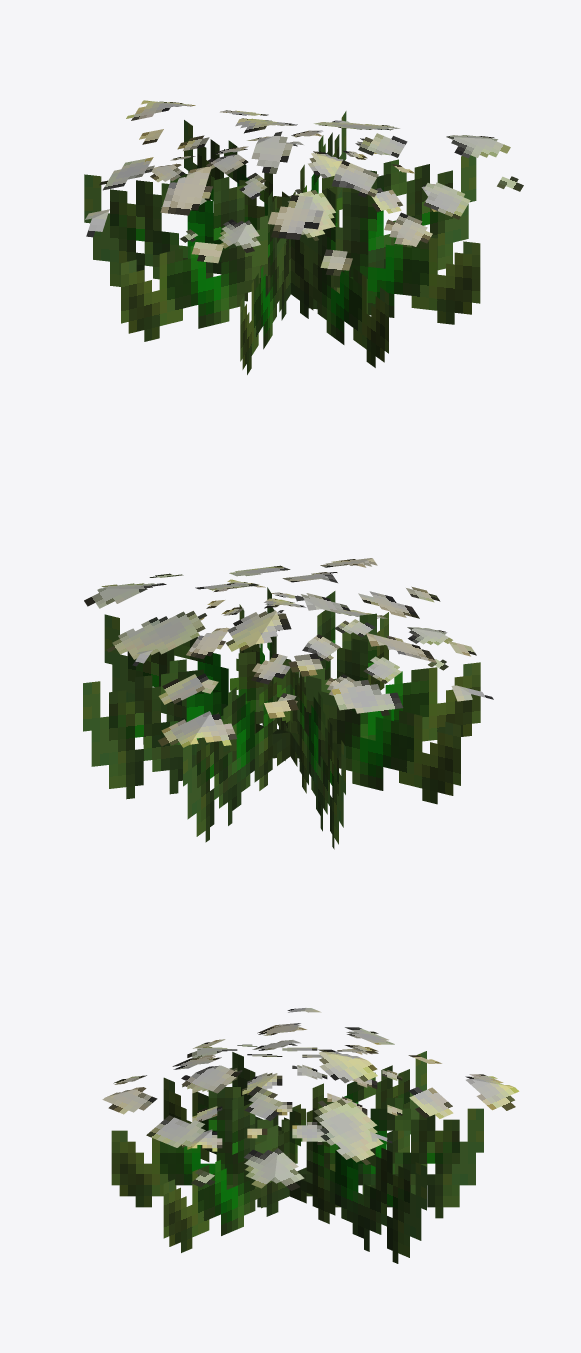
The model's file is flower_8.fbx.
3 renders of one model, top to bottom at view 1: azimuth 30°, elevation 25°; view 2: azimuth 150°, elevation 25°; view 3: azimuth 270°, elevation 25°, orthographic. The views are drawn at different scales.
Parts seen in each view (by area): view 1: flower8; view 2: flower8; view 3: flower8.
Part boxes in pixels (x1,y1,x2,y2): flower8: (84, 100, 523, 374); flower8: (83, 558, 493, 849); flower8: (102, 1008, 519, 1263).
Bounding box in the file's own units: 73.34 × 26.65 × 73.12.
